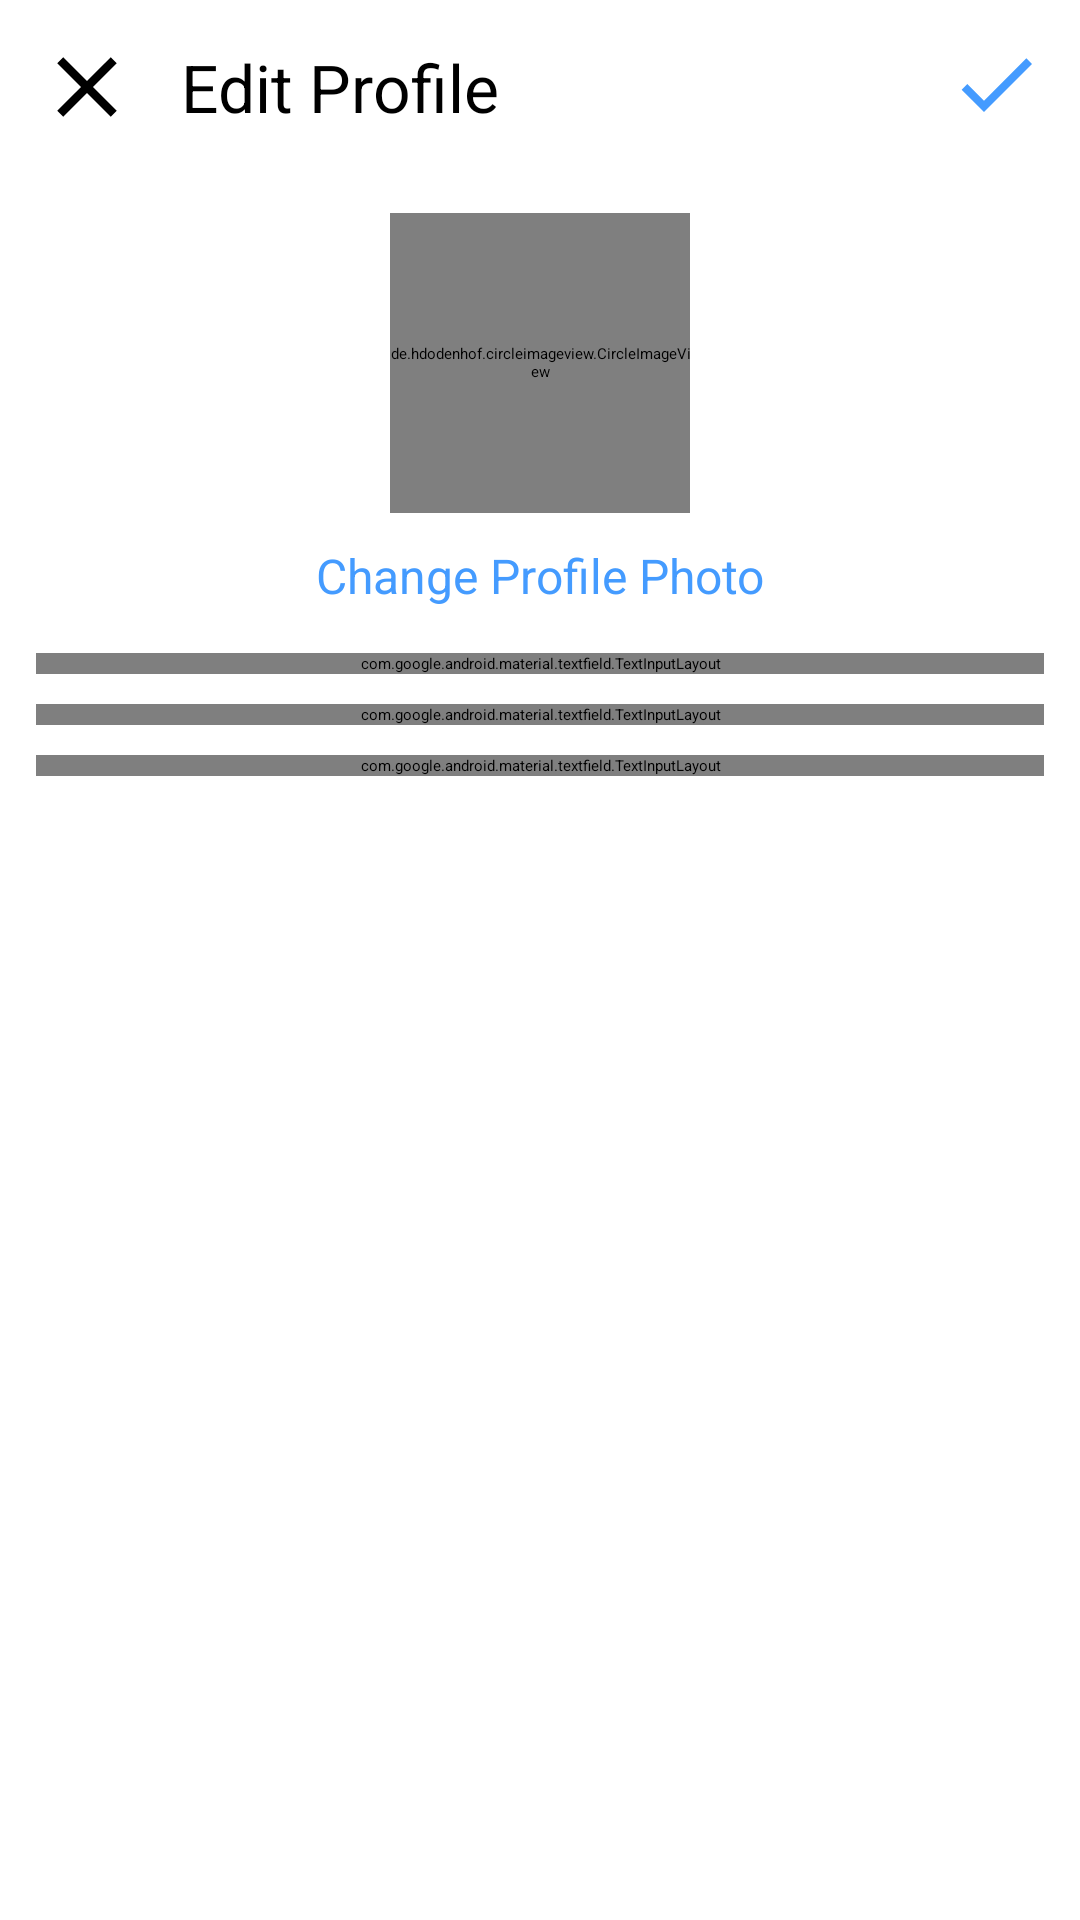

Icon click points for this 1080w x 1920h phone screenshot, format (x=x, y=y):
check: (x=997, y=85)
close: (x=87, y=87)
